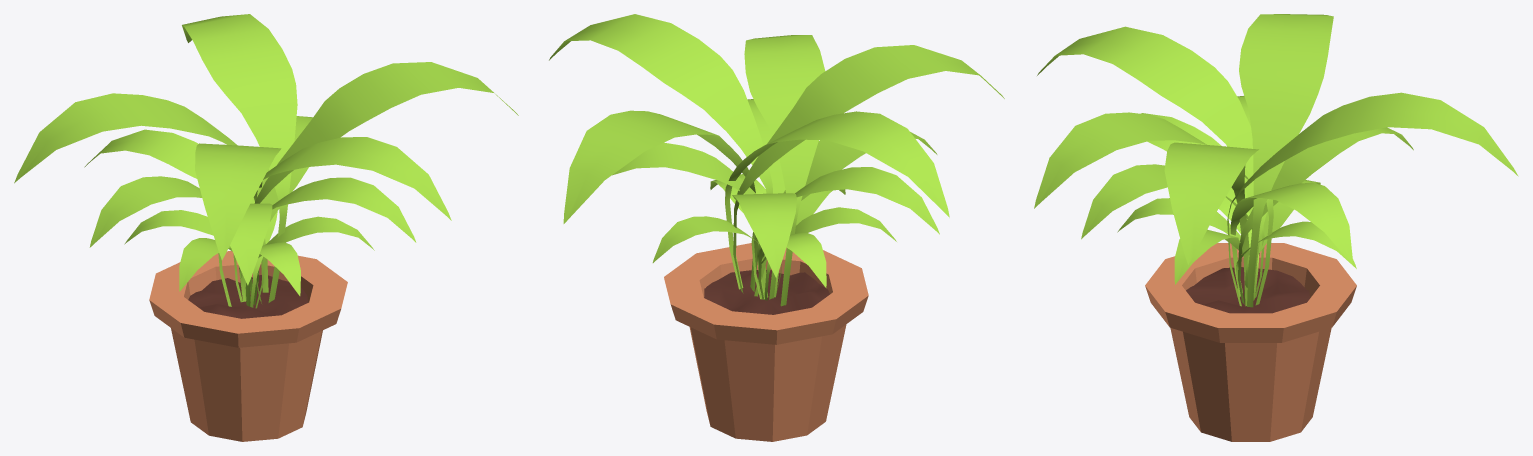
Rendered from lowpoly_plantPot.fbx.
3 views of the same model, side by side, from view 1: azimuth 30°, elevation 25°; view 2: azimuth 150°, elevation 25°; view 3: azimuth 270°, elevation 25° (orthographic). The views are drawn at different scales.
Visible parts, largest first — view 1: plantPot_lowpoly; view 2: plantPot_lowpoly; view 3: plantPot_lowpoly.
Boxes of the visible parts, left/top/right/bottom form: plantPot_lowpoly: left=14, top=14, right=518, bottom=441; plantPot_lowpoly: left=549, top=14, right=1004, bottom=441; plantPot_lowpoly: left=1034, top=14, right=1518, bottom=441.
Bounding box in the file's own units: 46.81 × 31.93 × 42.07.
